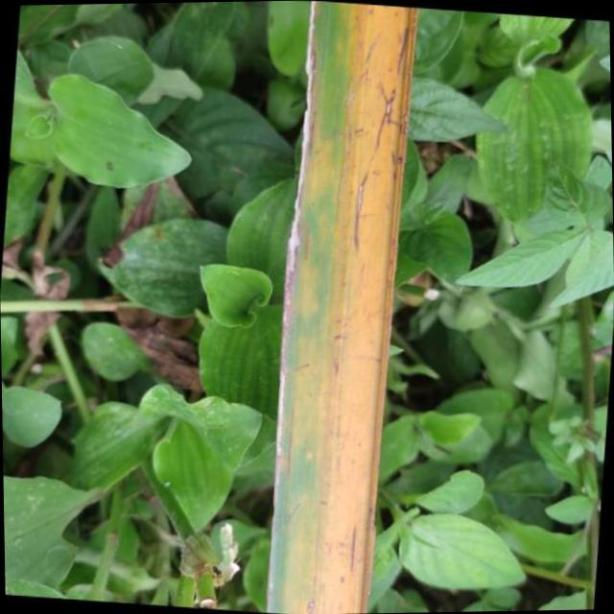Megnesium: (267, 0, 411, 614)
